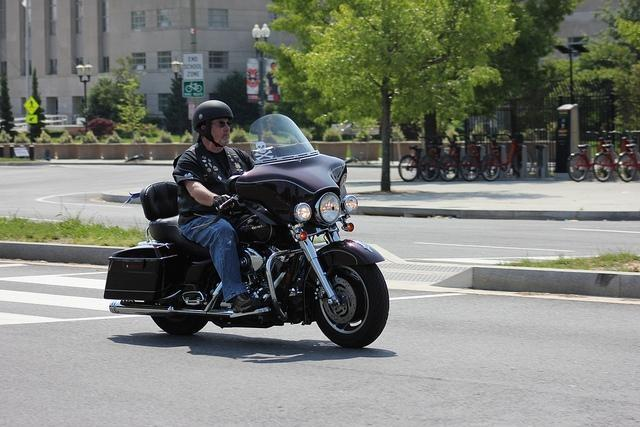bicycle: (592, 132, 638, 182), (568, 130, 612, 180), (480, 138, 532, 180), (418, 136, 445, 183), (460, 136, 483, 180), (438, 134, 459, 181), (398, 144, 422, 182), (617, 144, 640, 182)
motorcycle: (102, 114, 390, 349)
